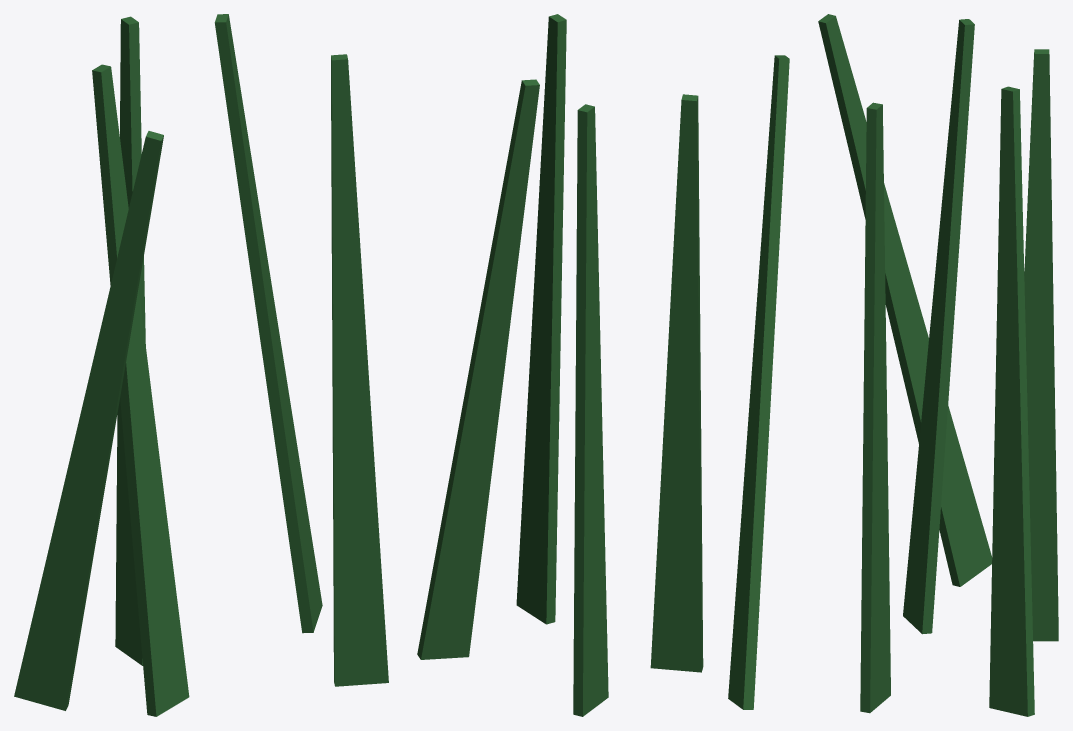
The model's file is seaweed.glb.
3 renders of one model, left to right at view 1: azimuth 30°, elevation 25°; view 2: azimuth 150°, elevation 25°; view 3: azimuth 270°, elevation 25°, orthographic. The views are drawn at different scales.
Visible parts, largest first — view 1: seaweed_Body; view 2: seaweed_Body; view 3: seaweed_Body.
Boxes of the visible parts, x1,y1,x2,y2 form: seaweed_Body: (14, 14, 388, 716); seaweed_Body: (417, 14, 789, 716); seaweed_Body: (818, 14, 1058, 716).
Bounding box in the file's own units: 0.9879 × 1.8 × 0.6682.
